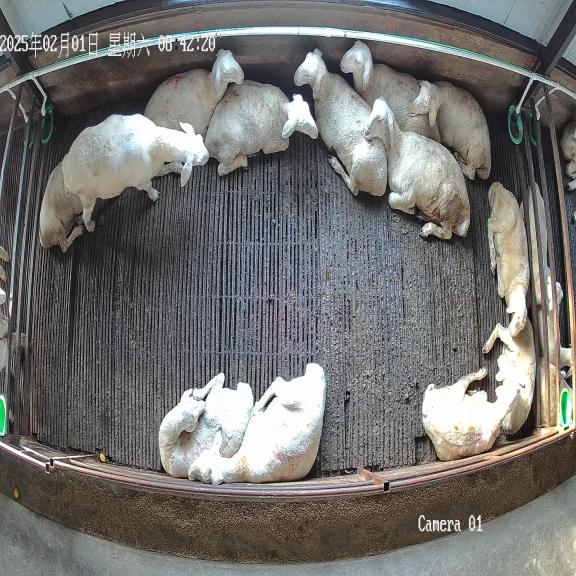lying: (188, 363, 325, 485), (365, 96, 470, 239), (294, 49, 389, 196), (204, 80, 319, 175), (340, 40, 441, 142), (158, 374, 253, 478), (422, 361, 520, 460), (144, 49, 244, 138), (410, 81, 491, 180), (488, 182, 529, 337), (482, 318, 536, 434), (39, 162, 83, 251)
stand: (63, 114, 208, 231)
